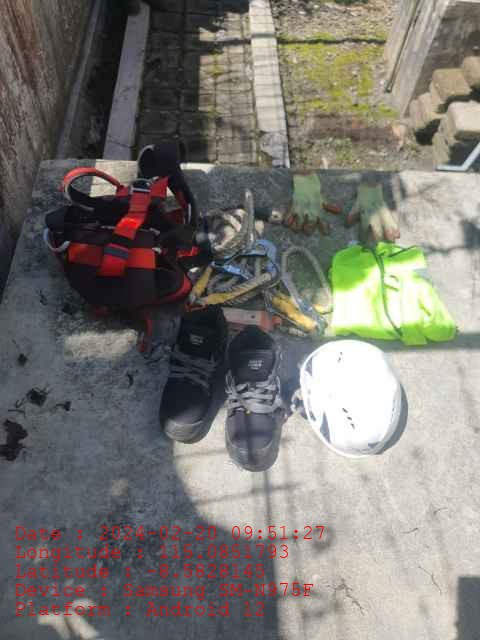HELM: (300, 339, 401, 460)
ROMPI: (329, 244, 456, 340)
SARUNG_TANGAN: (343, 179, 403, 245), (283, 171, 341, 238)
SEPATU: (158, 304, 285, 471)
TAMBANG_SLING: (196, 184, 281, 305)
